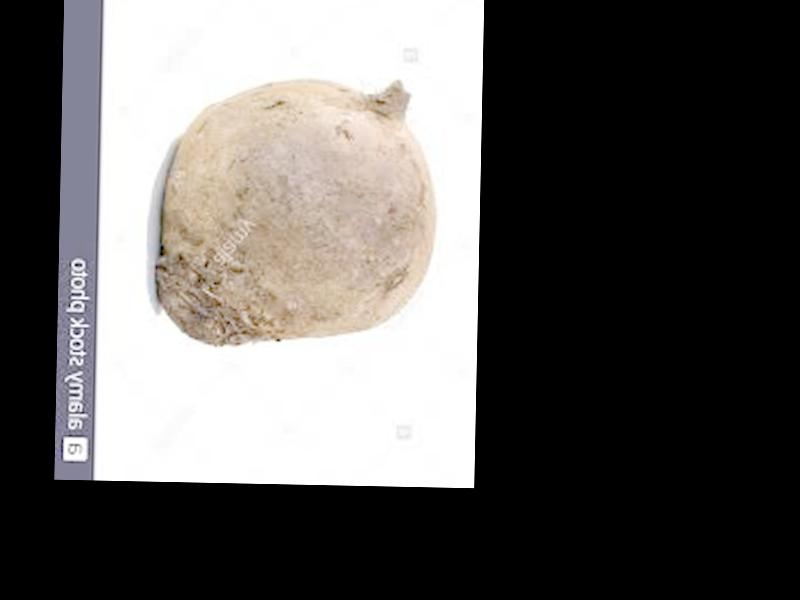Beet: (155, 74, 438, 348)
